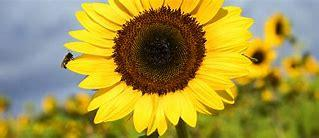sunflowers: (74, 1, 260, 138)
